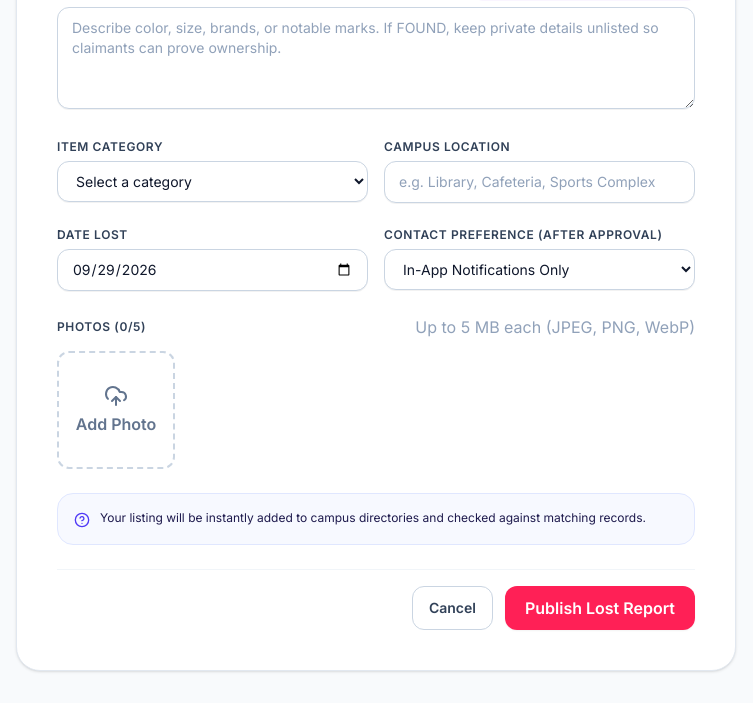
Test case: ReportItem Page › validates required fields on submission
(page scrolled)
Click the button "Publish Lost Report" at (600, 608), box [505,586,695,630]
(page scrolled)
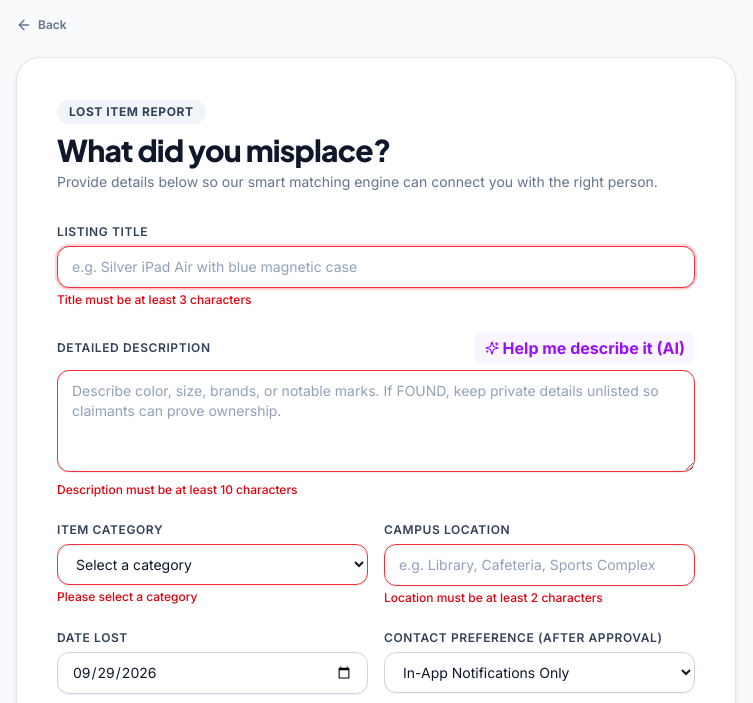
Now the text "Title must be at least 3 characters" is shown, box [57,292,252,307]
Now the text "Description must be at least 10 characters" is shown, box [57,482,298,497]
Now the text "Please select a category" is shown, box [57,589,198,604]
